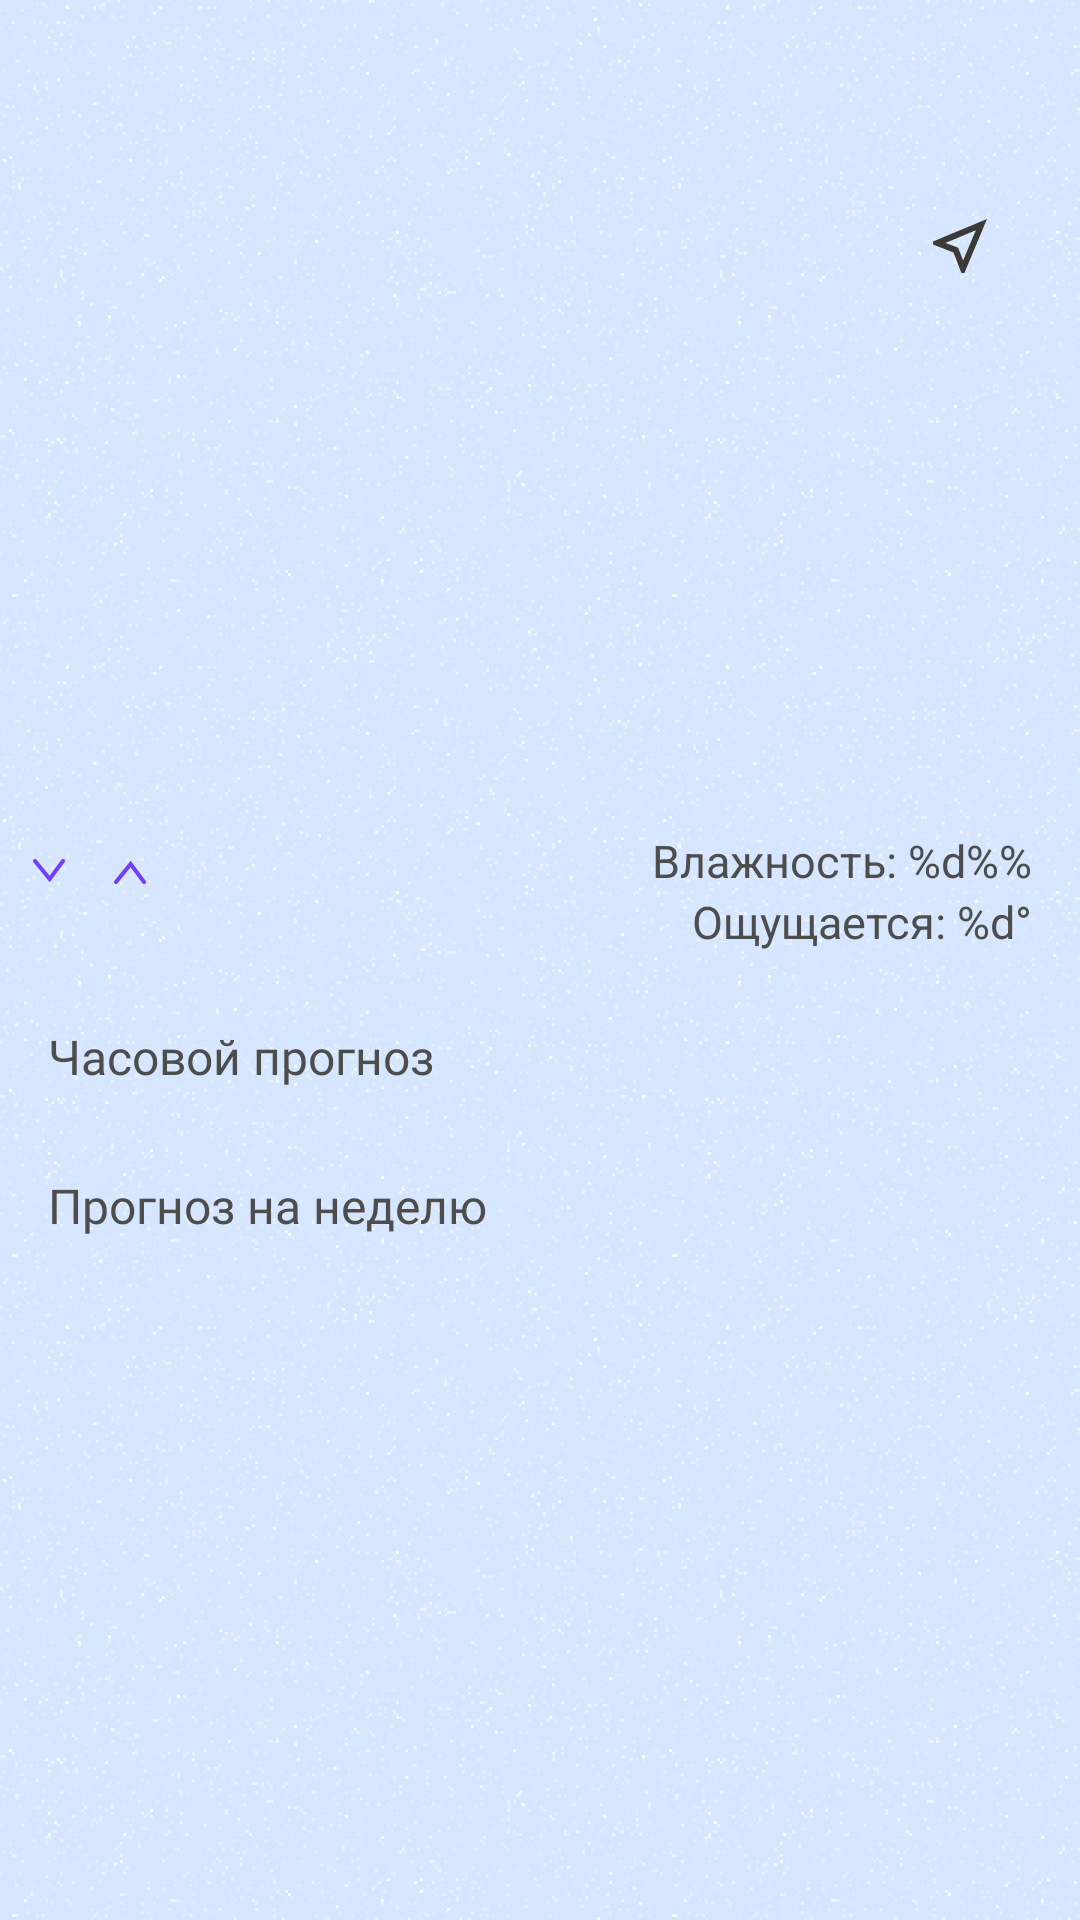

Icon bounding boxes for this 1080 x 1920 phone screenshot, format (x1, y1, x2, y2):
arrow down: (33, 859, 65, 882)
arrow up: (114, 861, 146, 884)
